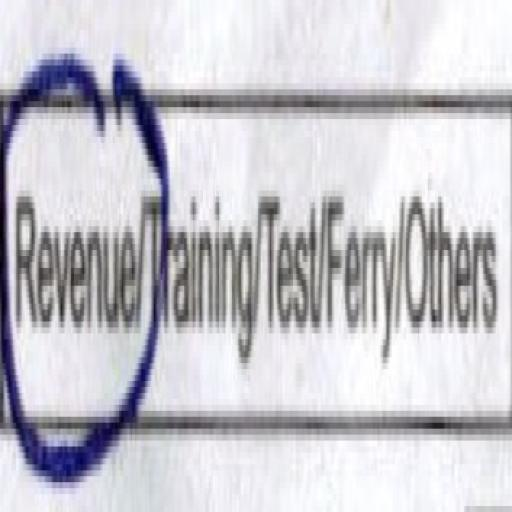check: (0, 18, 144, 506)
